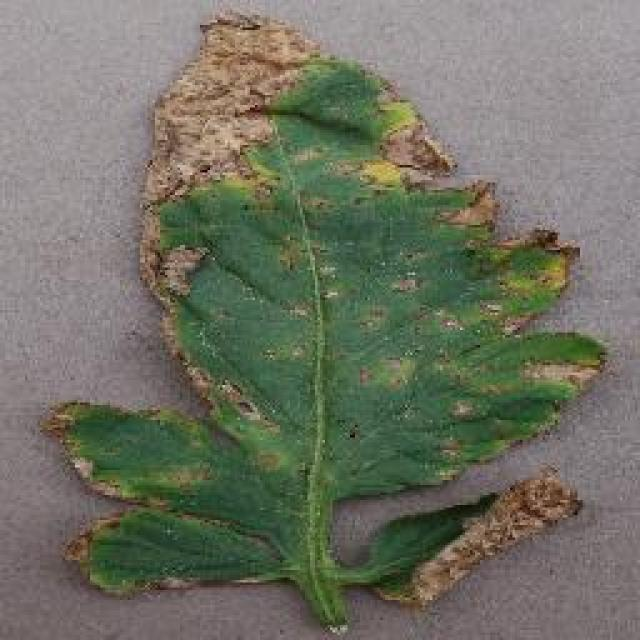Tomato___Bacterial_spot: (29, 10, 614, 627)
